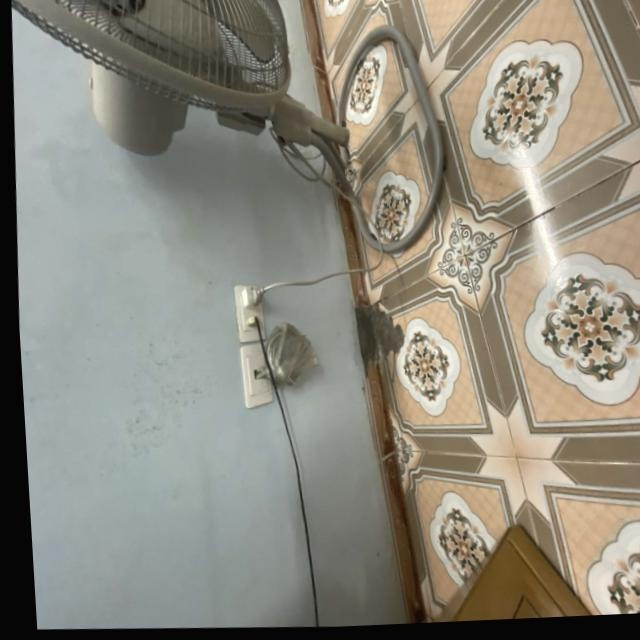outlet: (237, 340, 276, 409), (231, 283, 268, 343)
